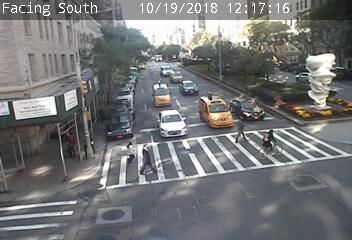car: (199, 96, 233, 129), (156, 110, 188, 135), (231, 97, 265, 120), (152, 80, 171, 108), (178, 81, 201, 95), (170, 71, 183, 83)
